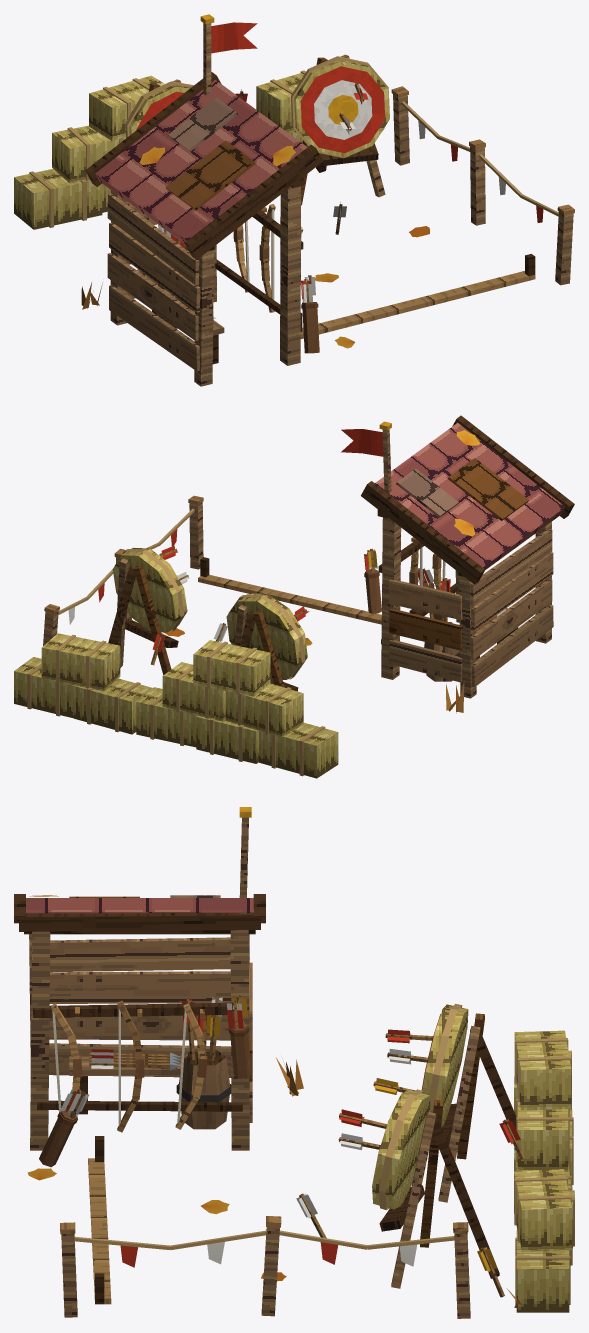
File: archery_range.glb
The picture shows the model from 3 angles, top to bottom: view 1: azimuth 30°, elevation 25°; view 2: azimuth 150°, elevation 25°; view 3: azimuth 270°, elevation 25°; orthographic projection. The views are drawn at different scales.
Visible parts, largest first — view 1: archery_range, sway_flag; view 2: archery_range, sway_flag; view 3: archery_range.
Boxes of the visible parts, <box> form: archery_range: <box>14,14,574,386</box>; sway_flag: <box>211,22,257,53</box>; archery_range: <box>14,415,574,778</box>; sway_flag: <box>341,429,383,456</box>; archery_range: <box>14,807,574,1318</box>.
Bounding box in the file's own units: 5.59 × 3.74 × 5.57.
Materials: 30 (19 with a texture image).
